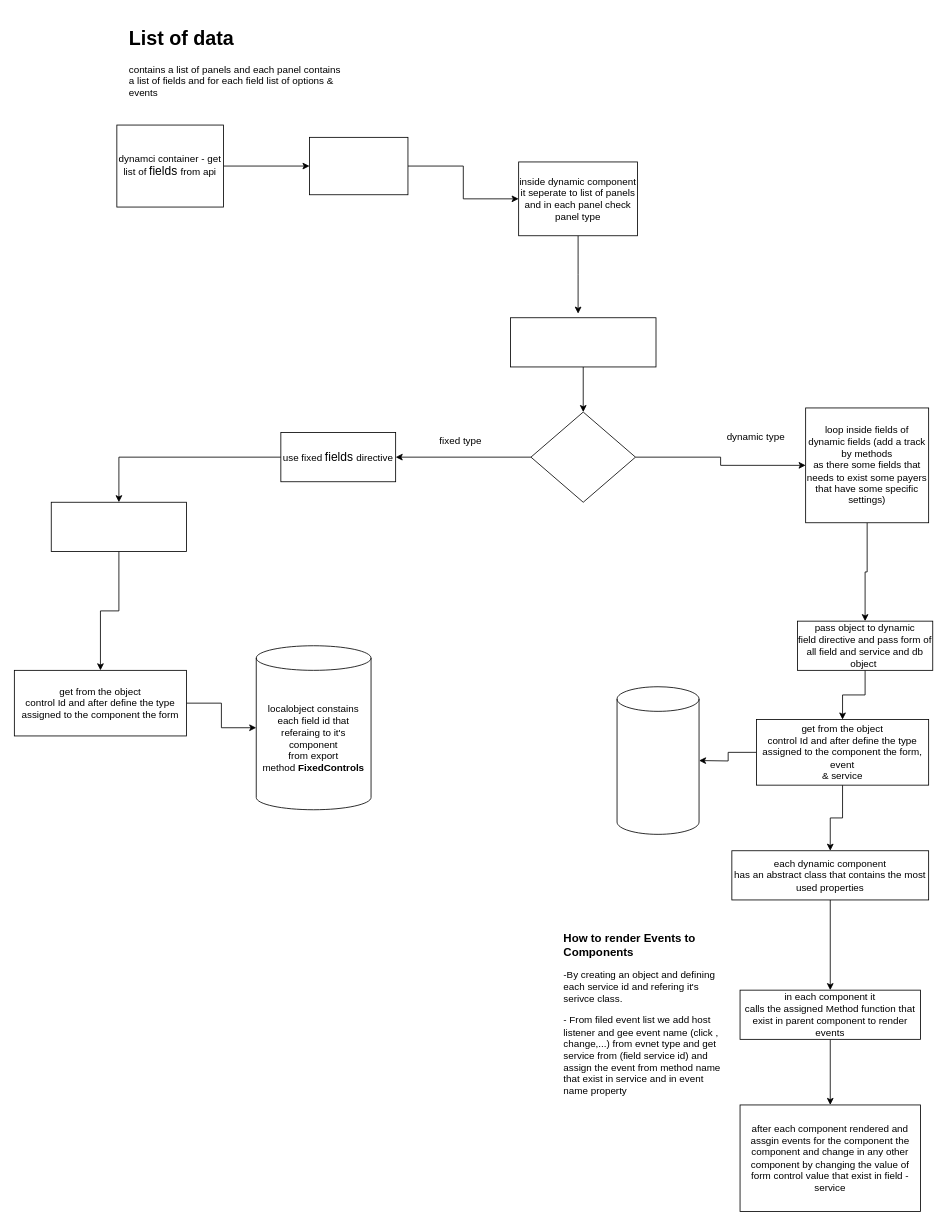
The diagram is 947 pixels wide and 1226 high, and some of its shapes have lost their labels. The shapes that lost their labels are listed below. From the top down, each one's box as (x1, y1, x2, y2) in pixels, then its label:
(309, 137, 408, 195): send the list to dynamic-from component
(510, 317, 656, 367): Add forms of fileds as controls for service of (events)
(530, 411, 636, 502): check panel type
(50, 501, 187, 551): pass fixed field to fixed directive
(616, 686, 699, 834): localobject constains each field id that referaing to it's component
